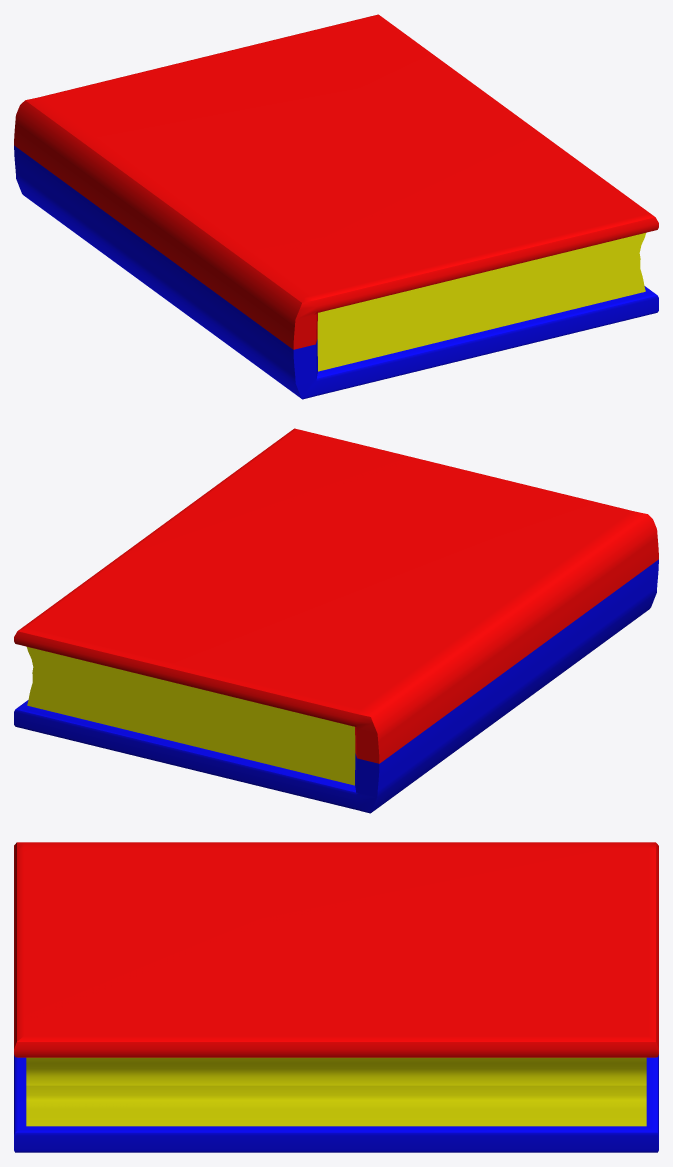
File: Special Book.fbx
3 views of the same model, one above another, from view 1: azimuth 30°, elevation 25°; view 2: azimuth 150°, elevation 25°; view 3: azimuth 270°, elevation 25° (orthographic). The views are drawn at different scales.
Parts seen in each view (by area): view 1: Upper, Lower; view 2: Upper, Lower; view 3: Upper, Lower.
Part boxes in pixels (x1,y1,x2,y2): Upper: (14,14,658,349); Lower: (14,145,658,399); Upper: (14,428,658,763); Lower: (14,559,658,813); Upper: (14,842,658,1085); Lower: (14,1055,658,1152).
Size of the model in its own units: 1.49 by 0.3836 by 1.97.
